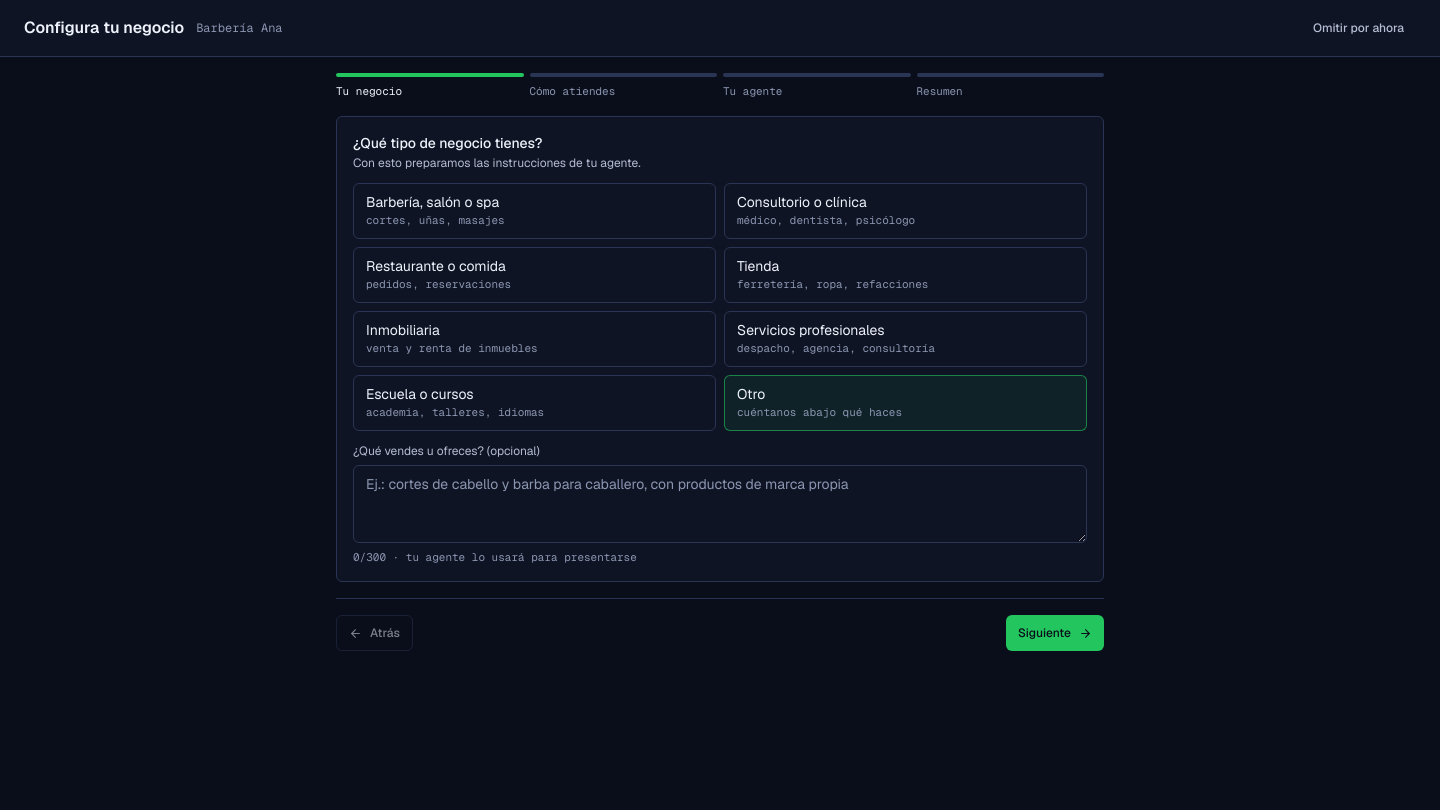
el número de personas que atienden citas solo aparece si agenda citas
Click the radio button labelled "Tienda ferretería, ropa, refacciones" at (906, 274), box [724,246,1087,302]
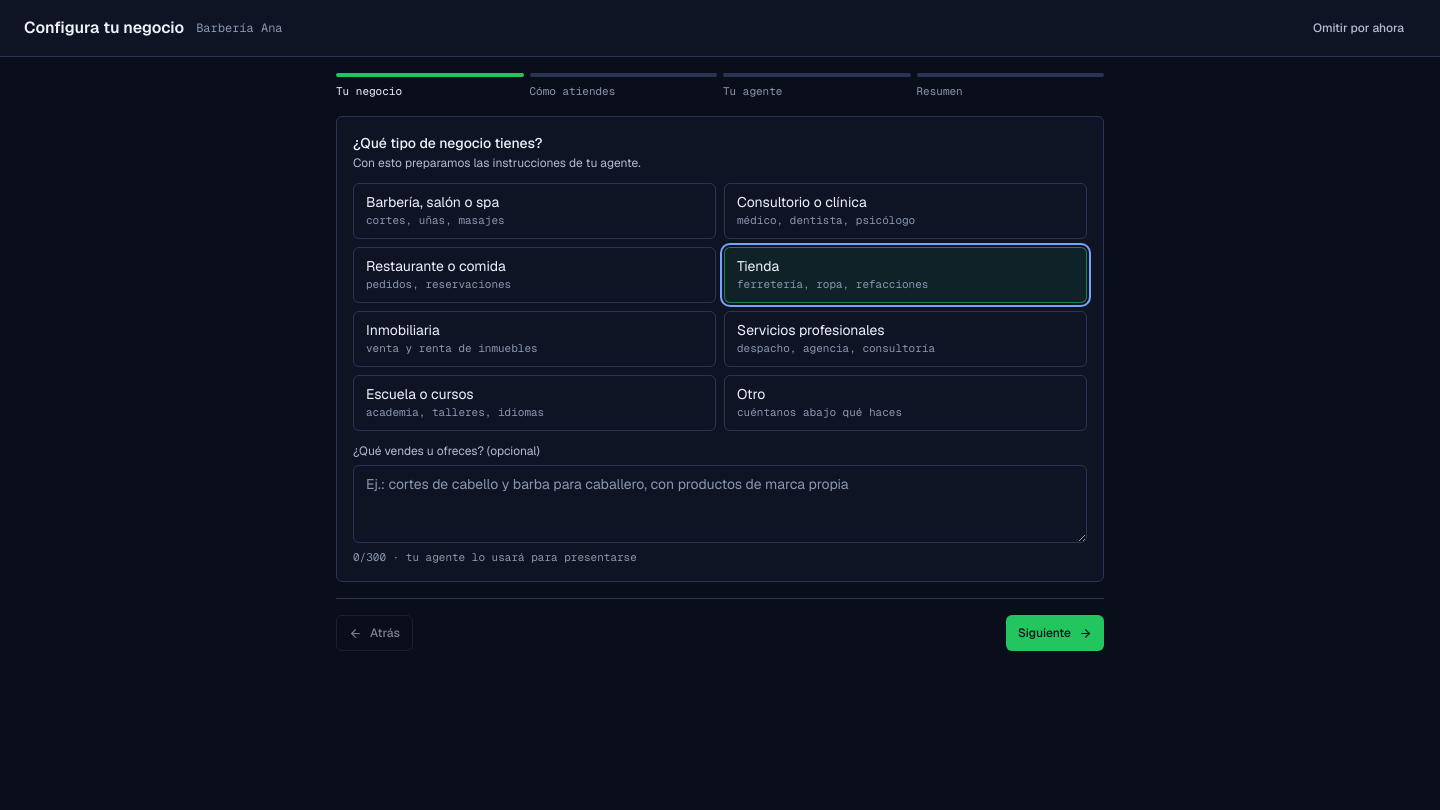
Click the button "Siguiente" at (1055, 633), box [1006,615,1104,651]
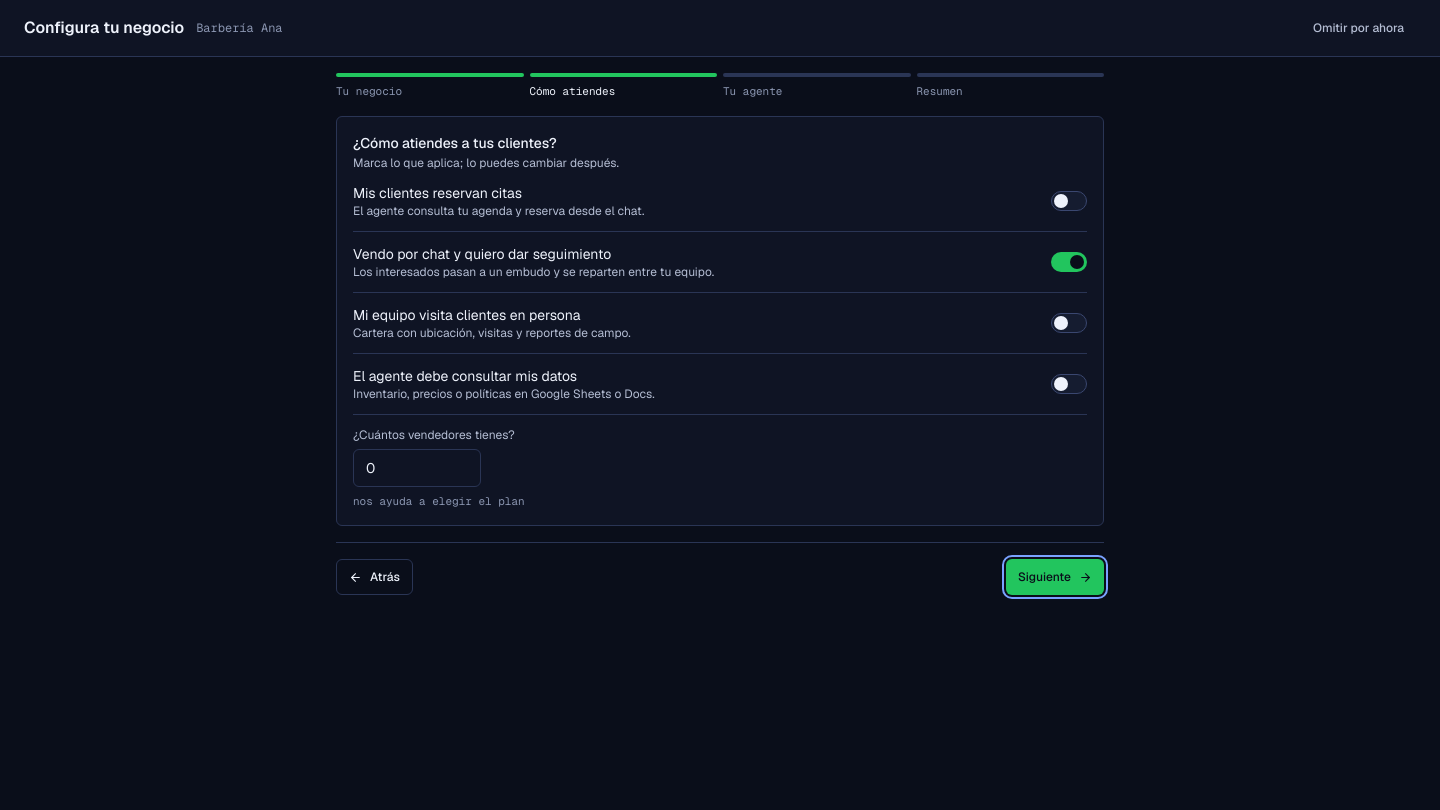
Expected: the field labelled "Cuántas personas atienden citas" is not shown
Expected: the number field labelled "¿Cuántos vendedores tienes?" is shown, [353,448,481,486]
Click the switch named "Mis clientes reservan citas" at (1069, 200), box [1051,190,1087,210]
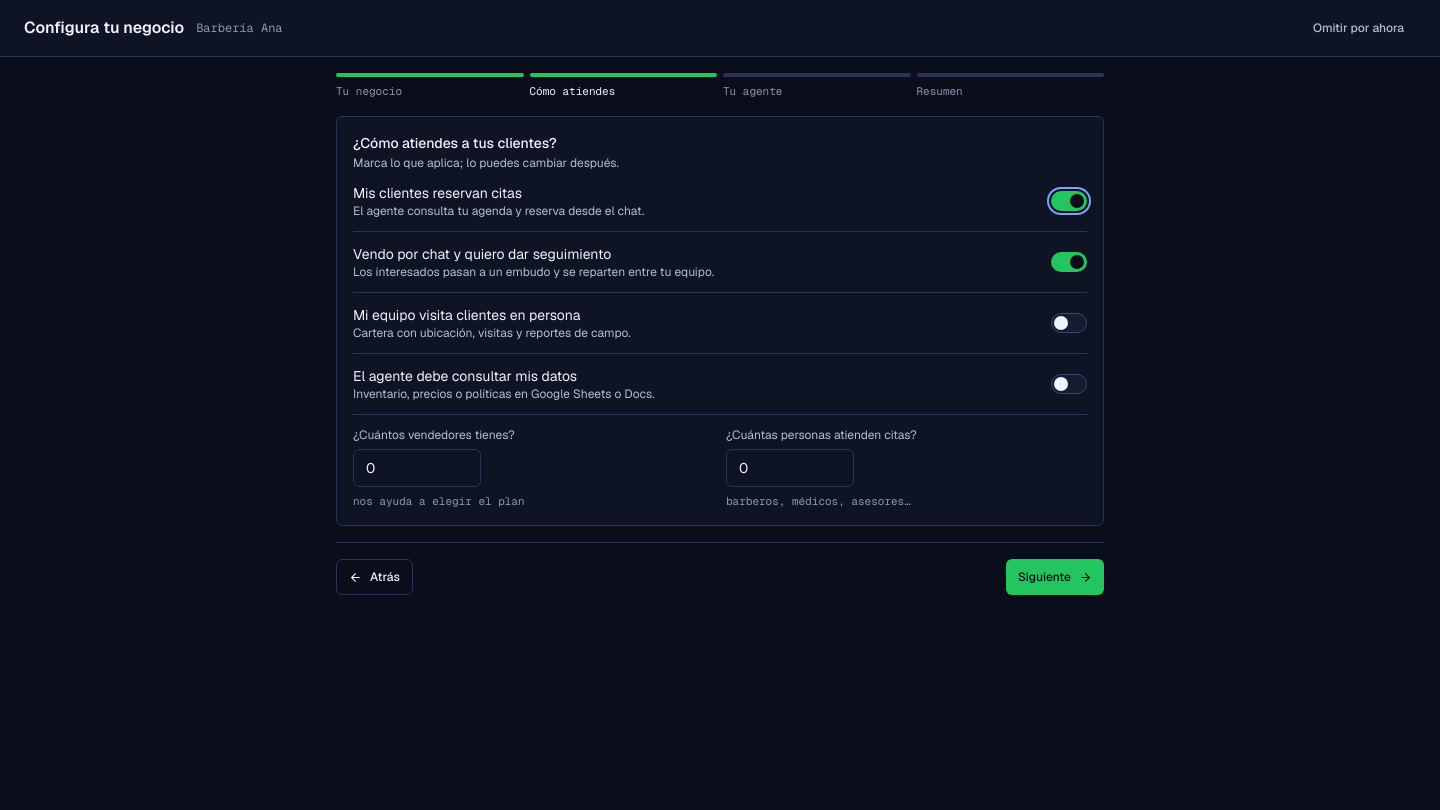
Expected: the number field labelled "¿Cuántas personas atienden citas?" is shown, [726,448,854,486]
